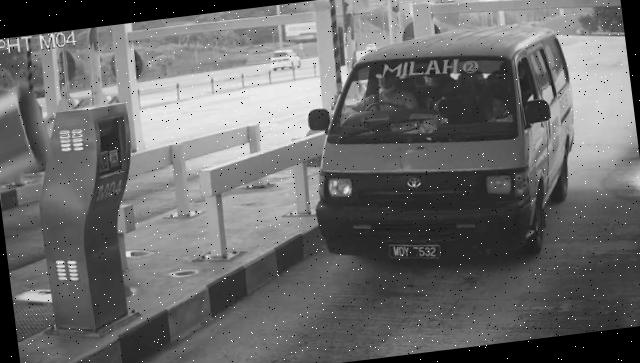License_Plate: (387, 237, 445, 269)
van: (297, 18, 591, 280)
